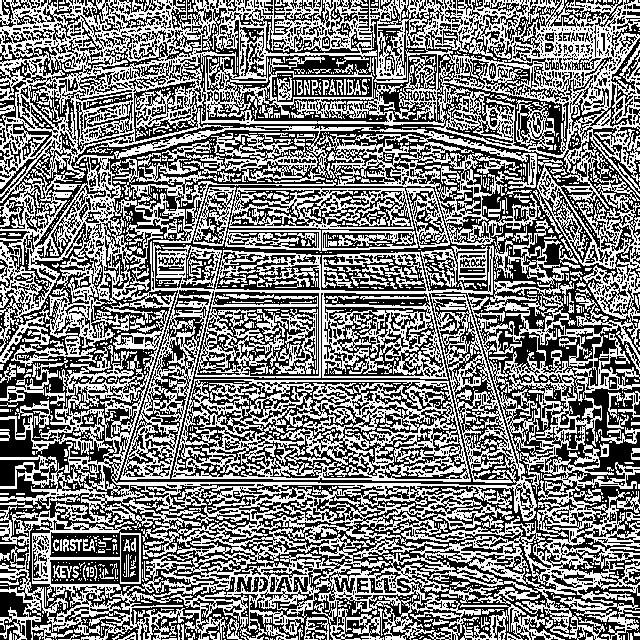left side: (404, 187, 524, 484), (117, 185, 236, 480)
player: (506, 460, 551, 586), (316, 126, 341, 186)
